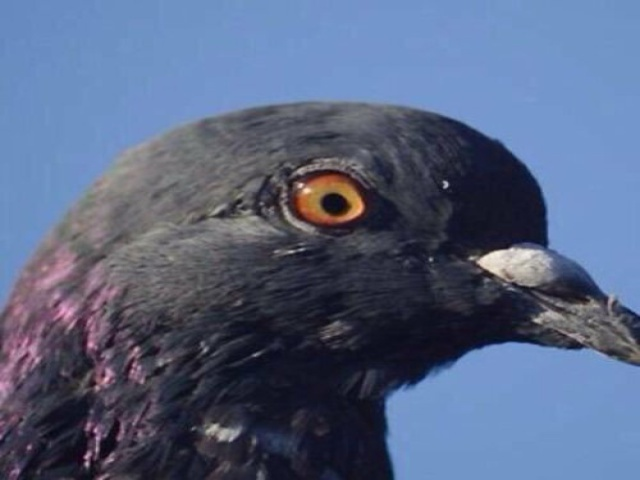Pigeon: (1, 95, 637, 477)
